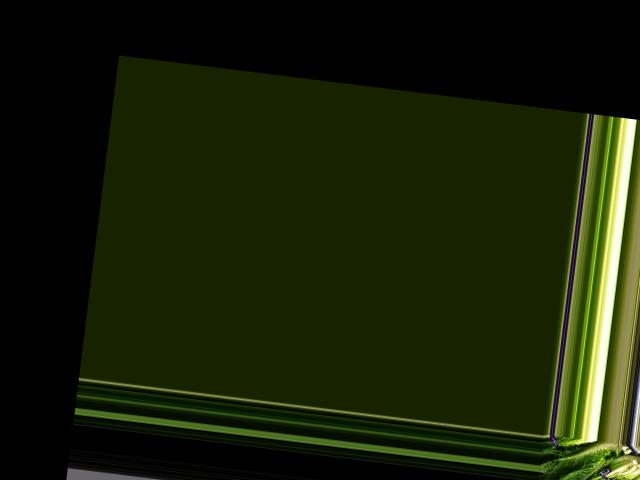lettuce: (538, 437, 620, 480)
